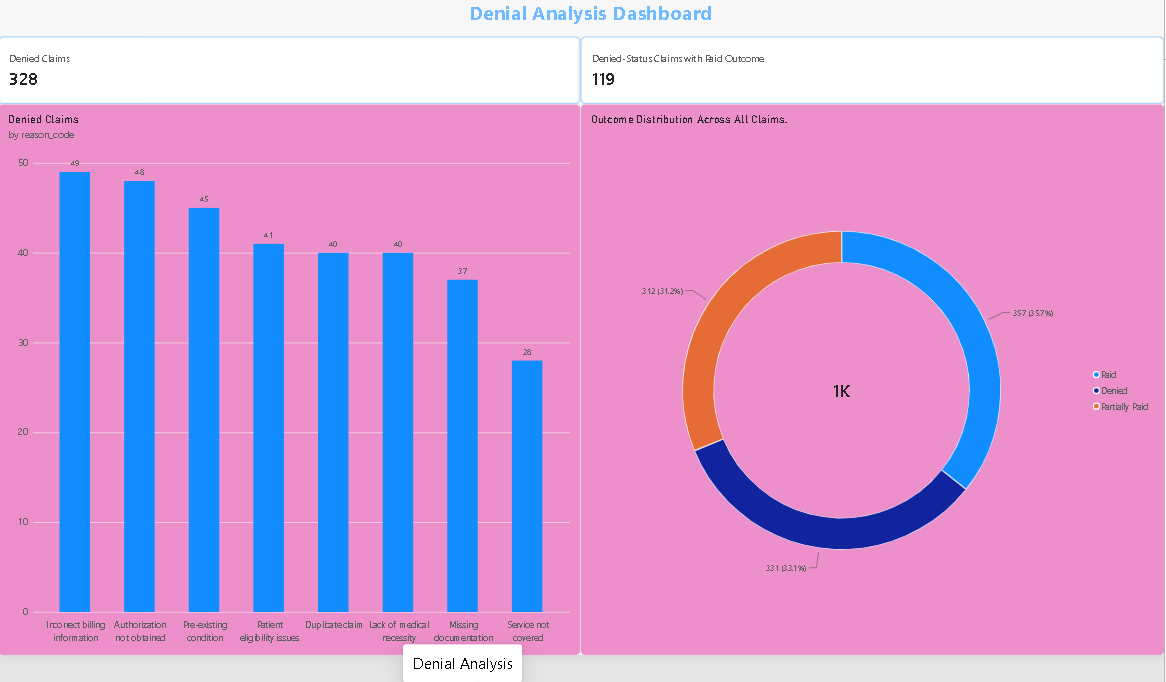

The dashboard page shown, as its layout file describes it:
{"tool":"powerbi","page":{"name":"Denial Analysis","canvas":[1920,1080],"ordinal":1},"visuals":[{"type":"clusteredColumnChart","fields":{"Category":["healthcare_claims_clean.reason_code"],"Y":["healthcare_claims_clean.Denied Claims"]},"box":[0,172.9,959.2,907.7],"z":0},{"type":"donutChart","title":"Outcome Distribution Across All Claims.","fields":{"Category":["healthcare_claims_clean.outcome"],"Y":["CountNonNull(healthcare_claims_clean.claim_id)"]},"box":[959.2,172.9,961.2,907.7],"z":1},{"type":"cardVisual","fields":{"Data":["healthcare_claims_clean.Denied Claims"]},"box":[0,61.7,251.1,111.1],"z":2},{"type":"cardVisual","fields":{"Data":["healthcare_claims_clean.Denied Claims"]},"box":[0,61.7,959.2,111.1],"z":3},{"type":"cardVisual","fields":{"Data":["CountNonNull(healthcare_claims_clean.claim_id)"]},"box":[959.2,61.7,961.2,111.1],"z":4},{"type":"textbox","box":[100.9,0,1749.6,61.7],"z":5}]}

Visuals, with their boxes on the page's 1920x1080 design canvas (x1, y1, x2, y2). These are canvas units, not pixel positions in the 1166x682 screenshot, which may show the page scaled, cropped or inside an application window:
clusteredColumnChart - healthcare_claims_clean.reason_code x healthcare_claims_clean.Denied Claims: [0, 173, 959, 1081]
"Outcome Distribution Across All Claims." donutChart: [959, 173, 1920, 1081]
cardVisual - healthcare_claims_clean.Denied Claims: [0, 62, 251, 173]
cardVisual - healthcare_claims_clean.Denied Claims: [0, 62, 959, 173]
cardVisual - CountNonNull(healthcare_claims_clean.claim_id): [959, 62, 1920, 173]
textbox: [101, 0, 1850, 62]
